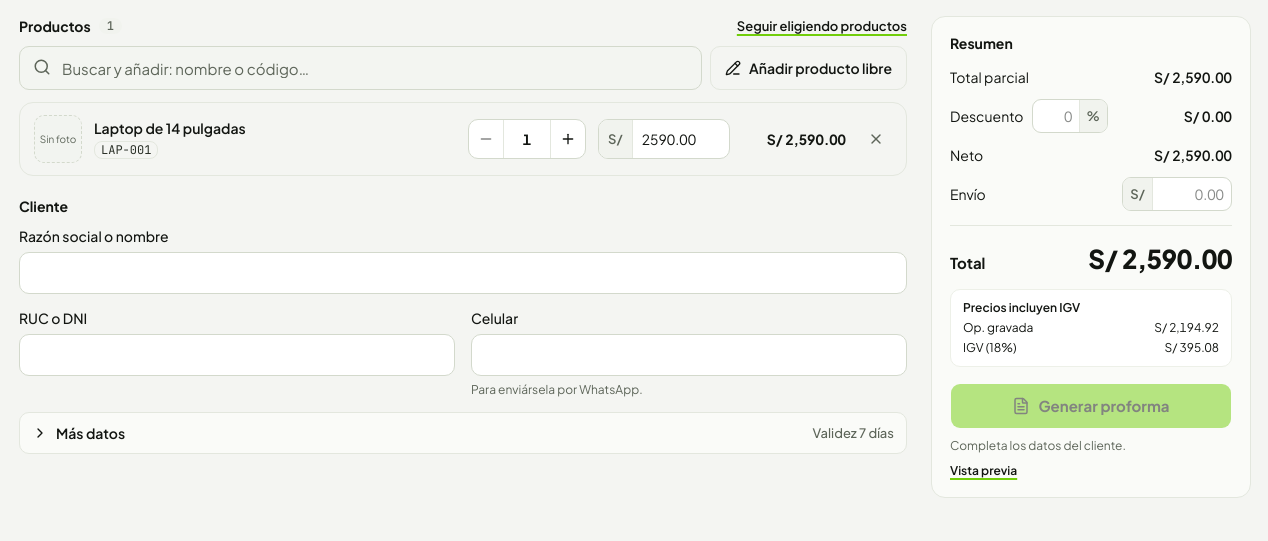
ProformaEditor › cliente desde el historial › con historial, el aviso de SUNAT de baja o no habido se mantiene
Step 1. Type "20000000001" into the field labelled "RUC o DNI" → point(237, 355), box x1=19 y1=334 x2=455 y2=376
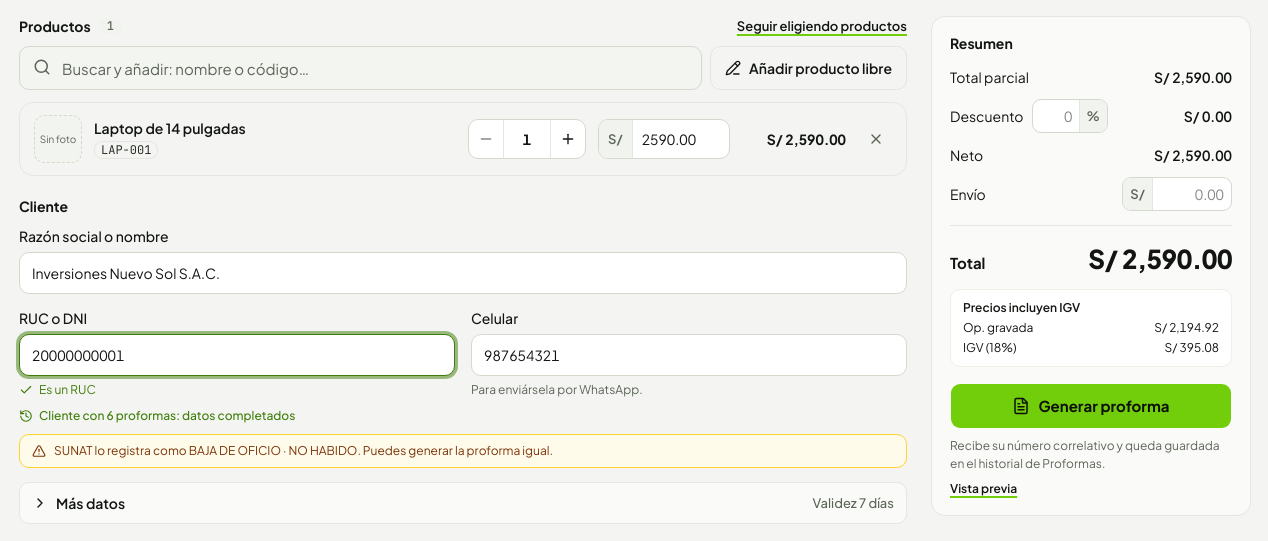
Now the text "SUNAT lo registra como BAJA DE OFICIO · NO HABIDO" is shown, box x1=19 y1=434 x2=907 y2=468
Now the field labelled "Razón social o nombre" holds "Inversiones Nuevo Sol S.A.C.", box x1=19 y1=252 x2=907 y2=294
